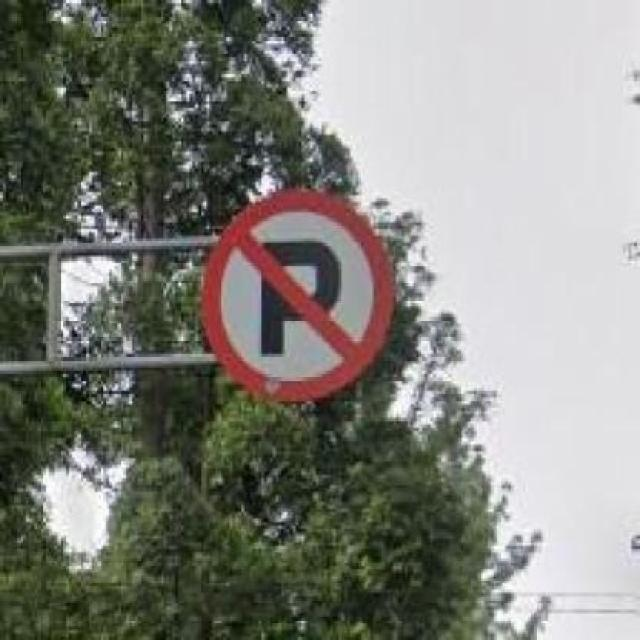no parking: (199, 182, 392, 394)
